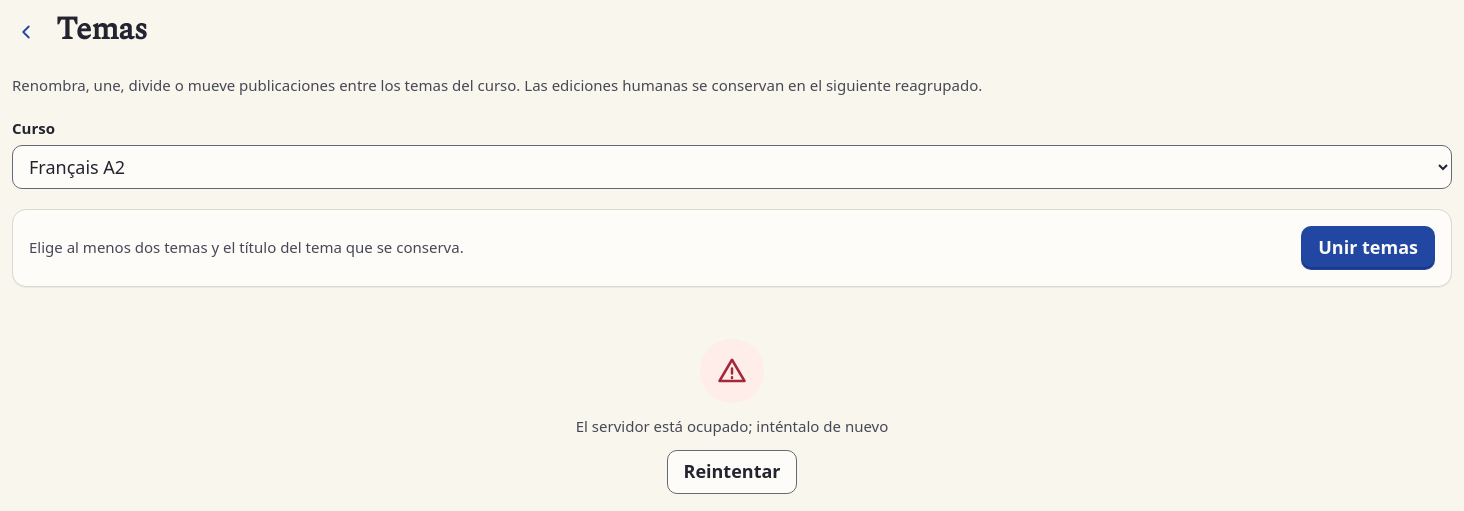
Test: temas muestra carga, vacío y error con Reintentar
Later steps or results of the test are not shown.
expect the text "El servidor está ocupado; inténtalo de nuevo" is shown: met, box [576,414,888,438]
Click the button "Reintentar". click: point(732, 472)
box: [666,450,798,494]
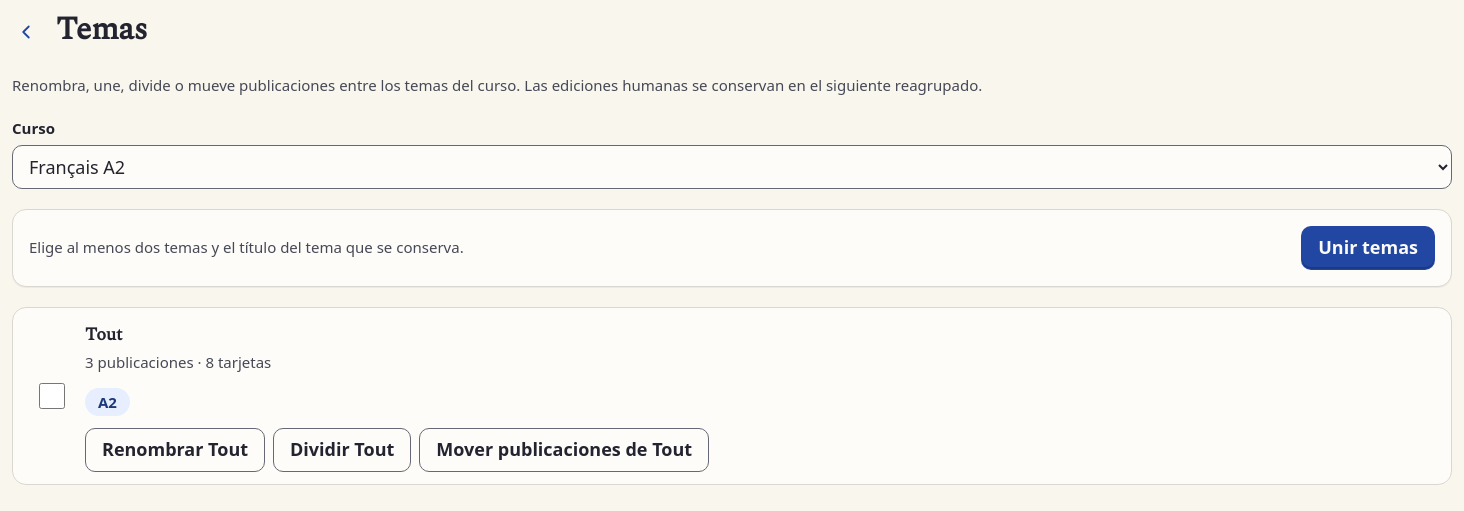
expect the button "Renombrar Tout" is shown: met, box [85,428,265,472]
